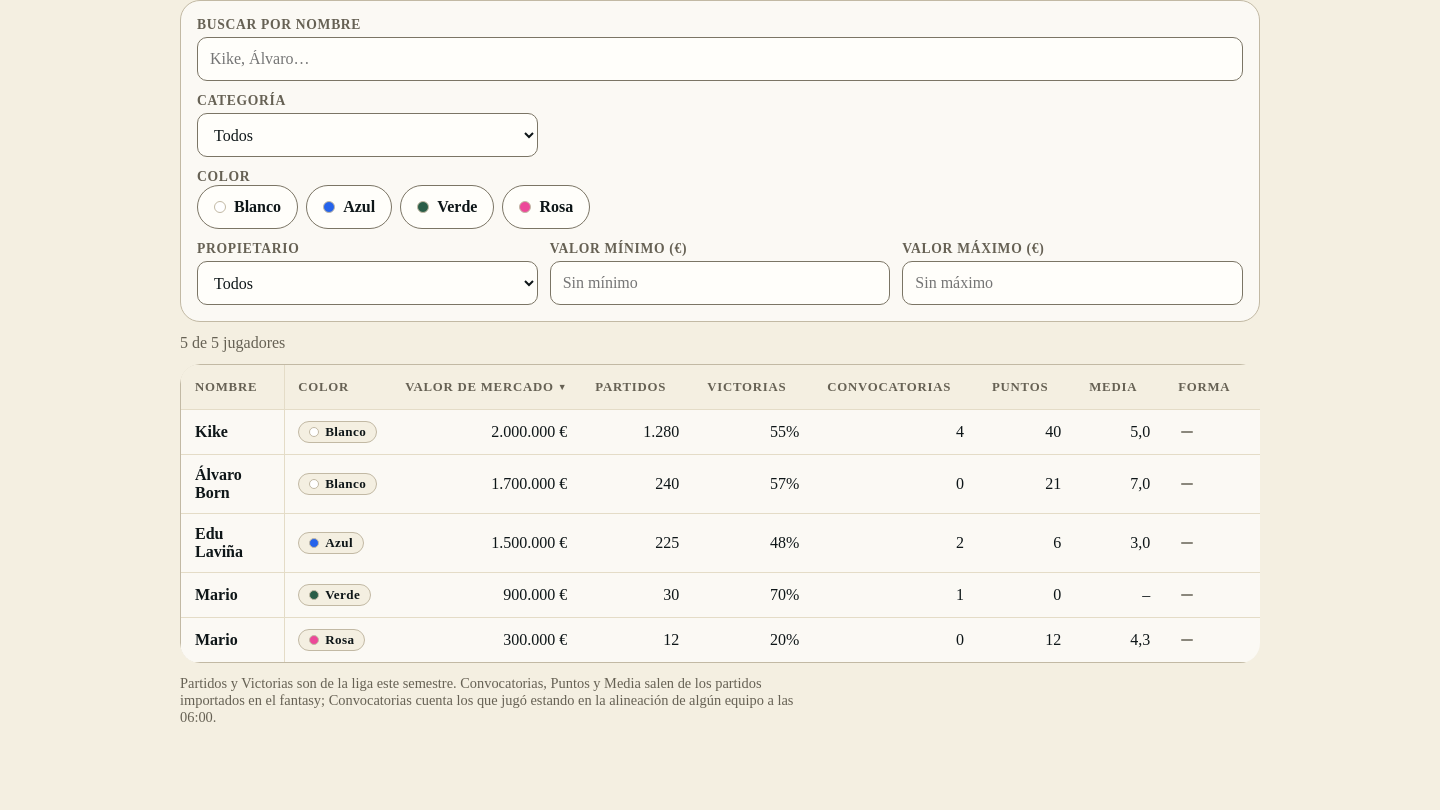
Scenario: PlayersTable › color chips filter, combine, and report their state
Later steps or results of the test are not shown.
Click the button with class "chip-toggle" showing "Blanco".
click(248, 207)  # box [197,185,298,229]
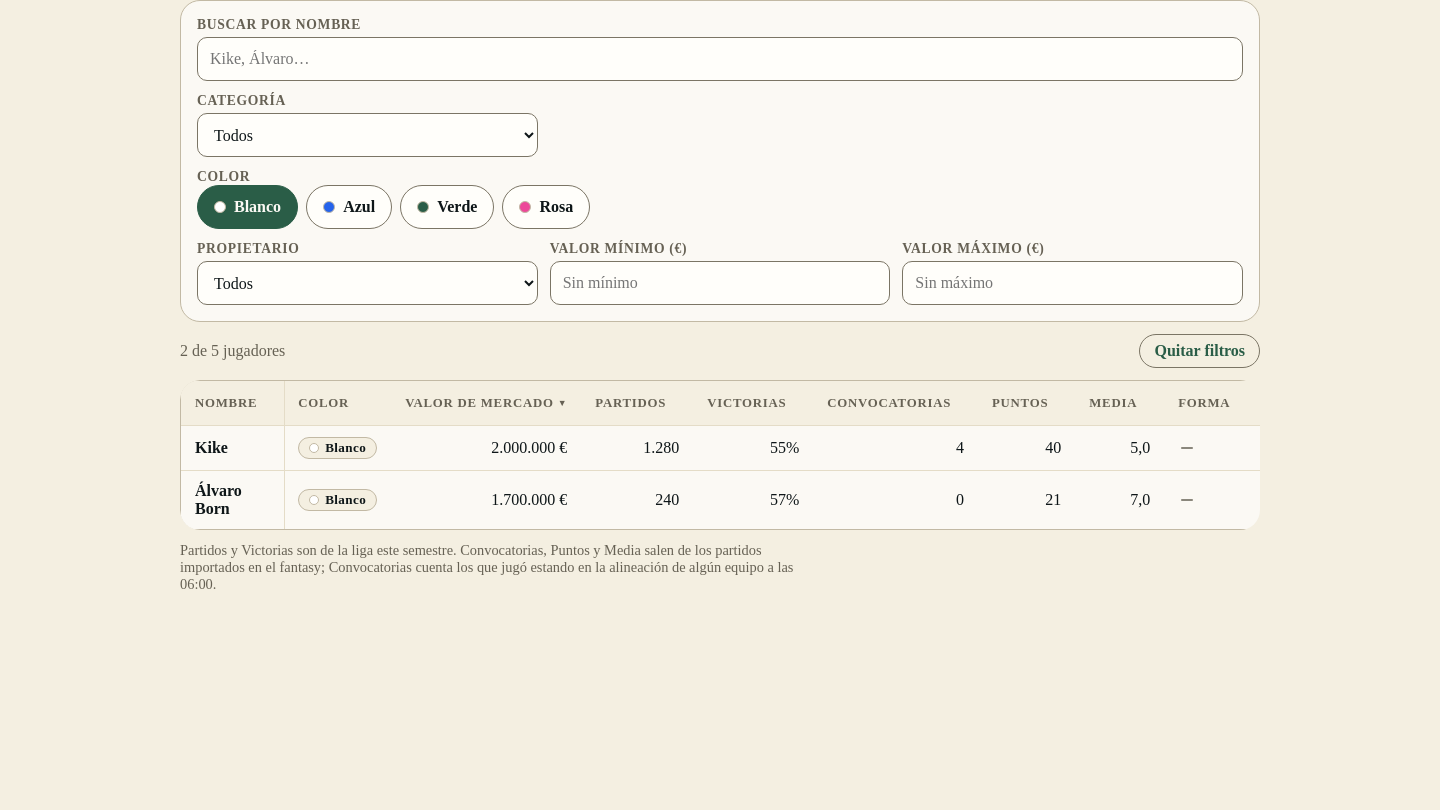
Now the button with class "chip-toggle" is pressed, box [197,185,298,229]
